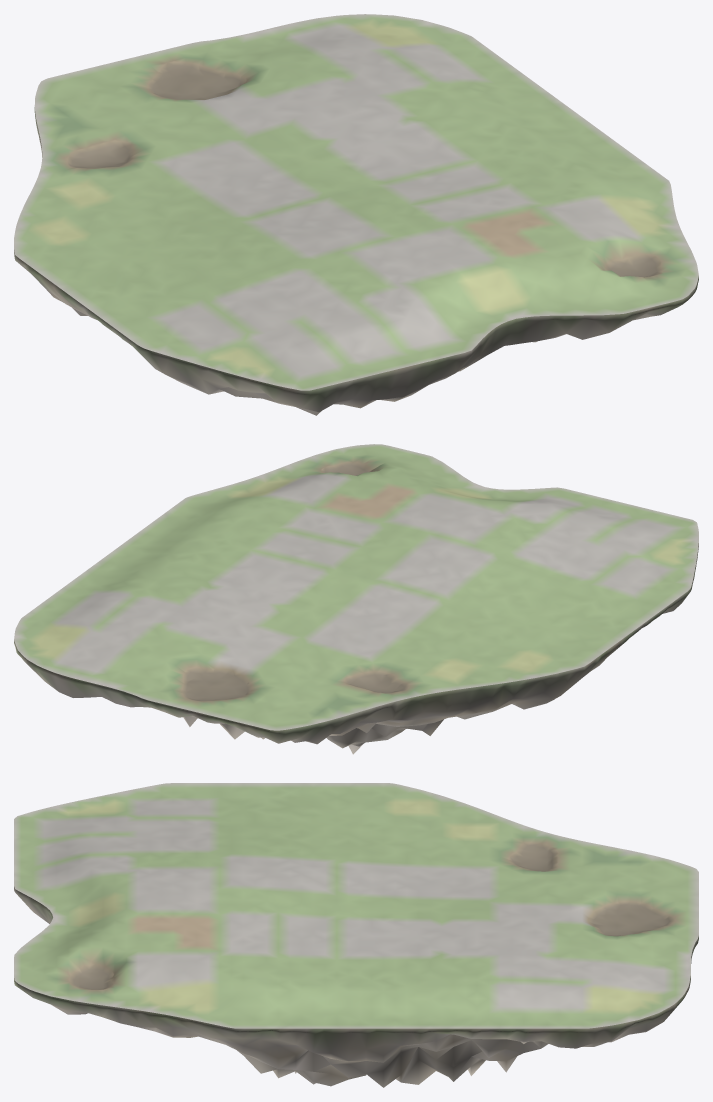
The model's file is SKY-045.rock.glb.
3 renders of one model, top to bottom at view 1: azimuth 30°, elevation 25°; view 2: azimuth 150°, elevation 25°; view 3: azimuth 270°, elevation 25°, orthographic. The views are drawn at different scales.
Visible parts, largest first — view 1: deck-col, rock; view 2: deck-col, rock; view 3: deck-col, rock.
Part boxes in pixels (x1,y1,x2,y2): deck-col: [14, 14, 698, 390]; rock: [14, 107, 698, 415]; deck-col: [14, 444, 698, 730]; rock: [14, 543, 698, 754]; deck-col: [14, 783, 698, 1028]; rock: [14, 886, 698, 1087].
Bounding box in the file's own units: 199 × 66.43 × 235.
